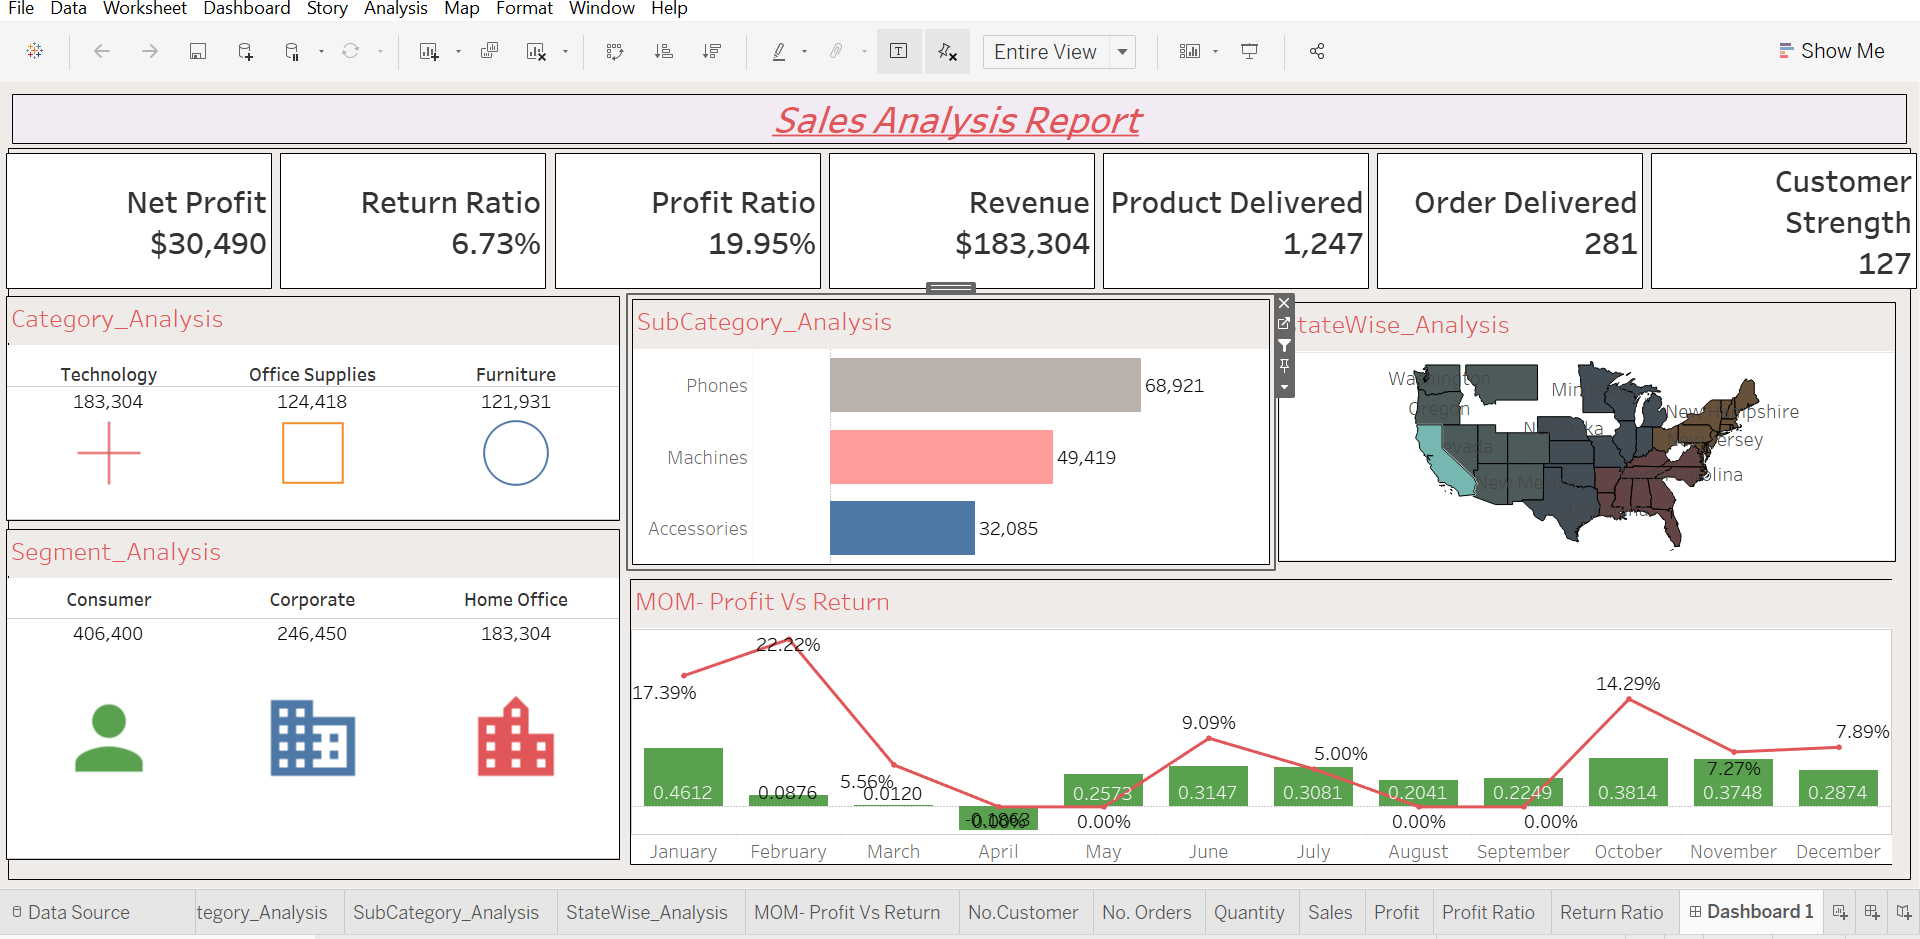

Layout of this report page (visuals, bound fields, positions):
{"tool":"tableau","page":{"name":"Dashboard 1","canvas":[1000,1000],"units":"permille","ordinal":0},"visuals":[{"type":"title","box":[4.2,9.9,991.7,72]},{"type":"worksheet","title":"Profit","mark":"Automatic","box":[1.2,83.1,142.8,178.7]},{"type":"worksheet","title":"Return Ratio","mark":"Automatic","box":[144.1,83.1,142.8,178.7]},{"type":"worksheet","title":"Profit Ratio","mark":"Automatic","box":[286.9,83.1,142.8,178.7]},{"type":"worksheet","title":"Sales","mark":"Automatic","box":[429.8,83.1,142.8,178.7]},{"type":"worksheet","title":"Quantity","mark":"Automatic","box":[572.6,83.1,142.8,178.7]},{"type":"worksheet","title":"No. Orders","mark":"Automatic","box":[715.5,83.1,142.8,178.7]},{"type":"worksheet","title":"No.Customer","mark":"Automatic","box":[858.3,83.1,142.8,178.7]},{"type":"worksheet","title":"Category_Analysis","mark":"Shape","cols":["Category"],"box":[1.2,260.6,324.2,289.1]},{"type":"worksheet","title":"SubCategory_Analysis","mark":"Automatic","rows":["SubCategory"],"cols":["Sales"],"box":[327.3,264.3,336.7,339.9]},{"type":"worksheet","title":"StateWise_Analysis","mark":"Multipolygon","box":[664,268,326.1,332.5]},{"type":"worksheet","title":"Segment_Analysis","mark":"Shape","cols":["Segment"],"box":[1.2,549.6,324.2,420.6]},{"type":"worksheet","title":"MOM- Profit Vs Return","mark":"Automatic","rows":["Calculation_913949287187435521","Calculation_913949287188242434"],"cols":["Order Date"],"box":[326.1,611.7,662.1,364.8]}]}

Visuals, with their boxes on the dashboard's canvas, which has no fixed pixel size, in thousandths of its width and height (x1, y1, x2, y2). These are canvas units, not pixel positions in the 1920x939 screenshot, which may show the page scaled, cropped or inside an application window:
title: x1=4 y1=10 x2=996 y2=82
"Profit" worksheet: x1=1 y1=83 x2=144 y2=262
"Return Ratio" worksheet: x1=144 y1=83 x2=287 y2=262
"Profit Ratio" worksheet: x1=287 y1=83 x2=430 y2=262
"Sales" worksheet: x1=430 y1=83 x2=573 y2=262
"Quantity" worksheet: x1=573 y1=83 x2=715 y2=262
"No. Orders" worksheet: x1=716 y1=83 x2=858 y2=262
"No.Customer" worksheet: x1=858 y1=83 x2=1001 y2=262
"Category_Analysis" worksheet (Shape marks): x1=1 y1=261 x2=325 y2=550
"SubCategory_Analysis" worksheet: x1=327 y1=264 x2=664 y2=604
"StateWise_Analysis" worksheet (Multipolygon marks): x1=664 y1=268 x2=990 y2=600
"Segment_Analysis" worksheet (Shape marks): x1=1 y1=550 x2=325 y2=970
"MOM- Profit Vs Return" worksheet: x1=326 y1=612 x2=988 y2=976
